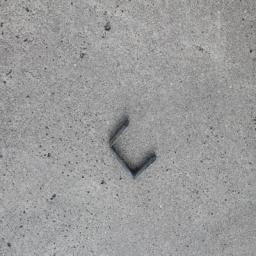FOD: (107, 116, 162, 183)
